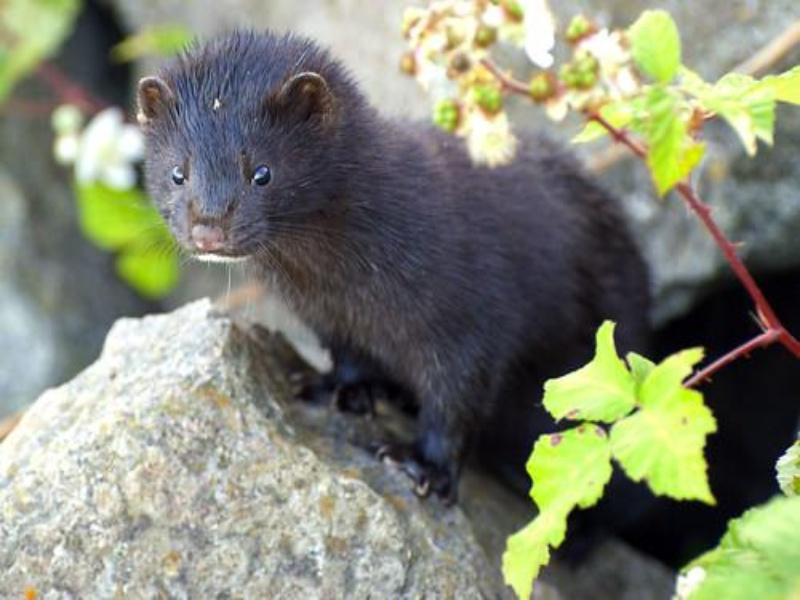minkish: (128, 24, 661, 516)
